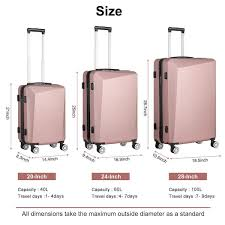suitcase: (151, 26, 220, 153), (84, 26, 140, 154), (16, 28, 67, 154)
